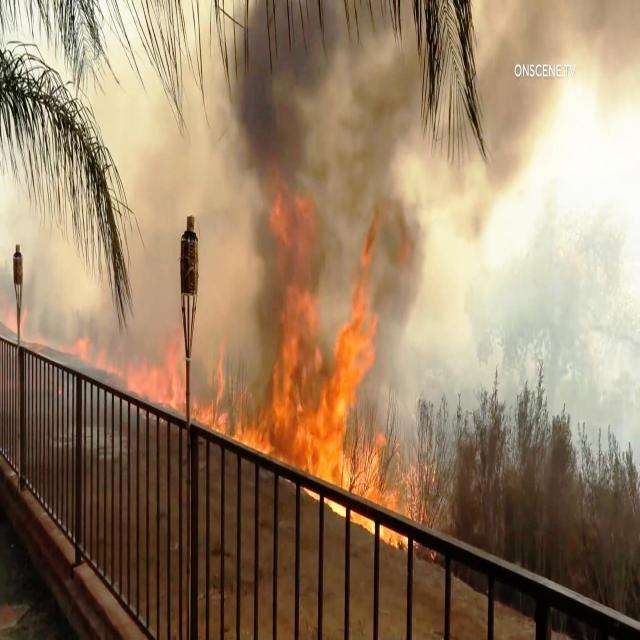Fire: (266, 209, 428, 559), (72, 335, 272, 452)
Smoke: (0, 3, 640, 195), (388, 204, 640, 453), (2, 200, 276, 338)
